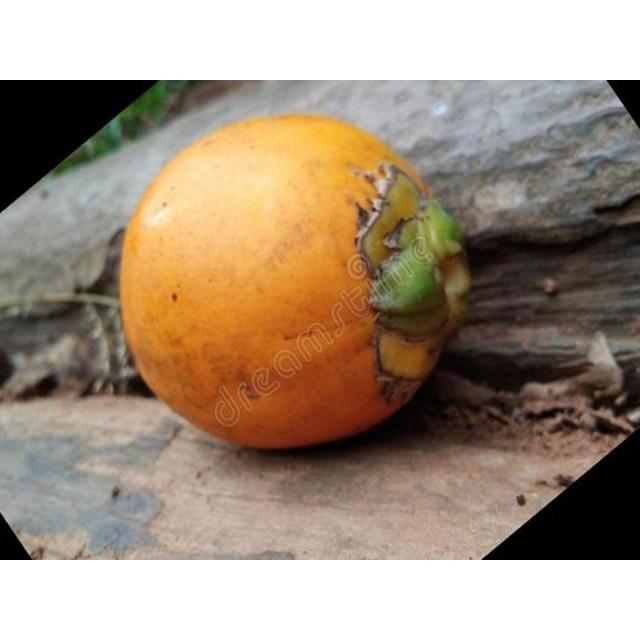good: (118, 113, 472, 452)
